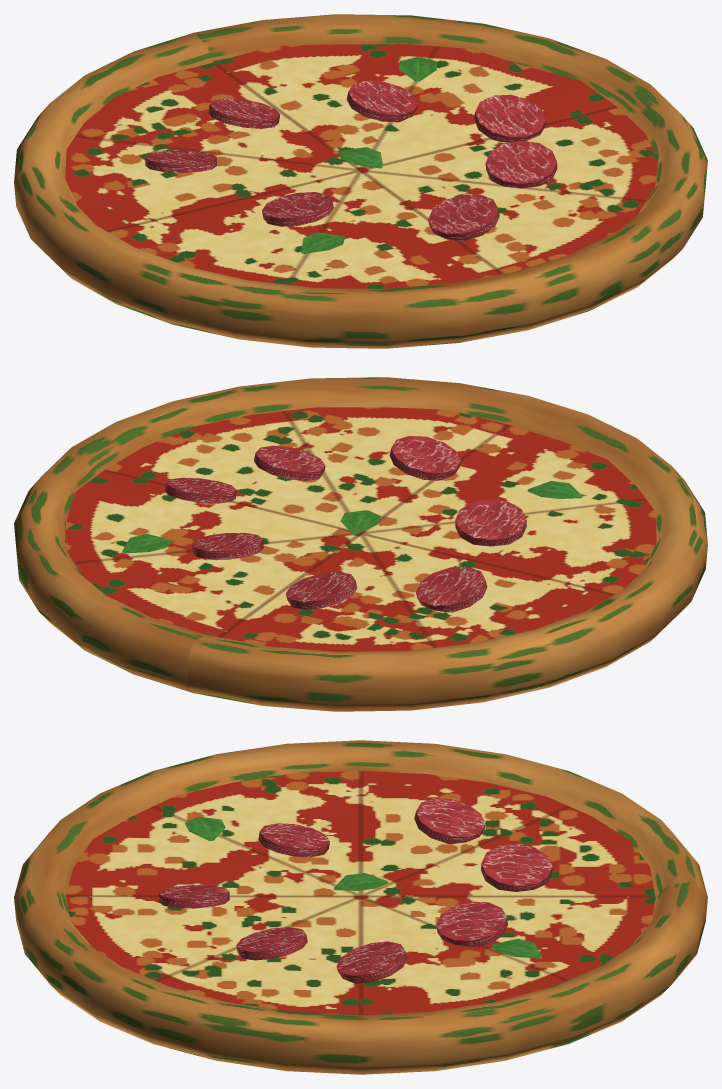
File: pizza.obj
3 views of the same model, one above another, from view 1: azimuth 30°, elevation 25°; view 2: azimuth 150°, elevation 25°; view 3: azimuth 270°, elevation 25° (orthographic).
Visible parts, largest first — view 1: pizza_0_surface; view 2: pizza_0_surface; view 3: pizza_0_surface.
Part boxes in pixels (box(x1,y1,x2,y2)): pizza_0_surface: box(14, 14, 707, 348); pizza_0_surface: box(14, 377, 707, 711); pizza_0_surface: box(14, 740, 707, 1074).
Bounding box in the file's own units: 0.312 × 0.0288 × 0.312.
1 material, 1 textured.
